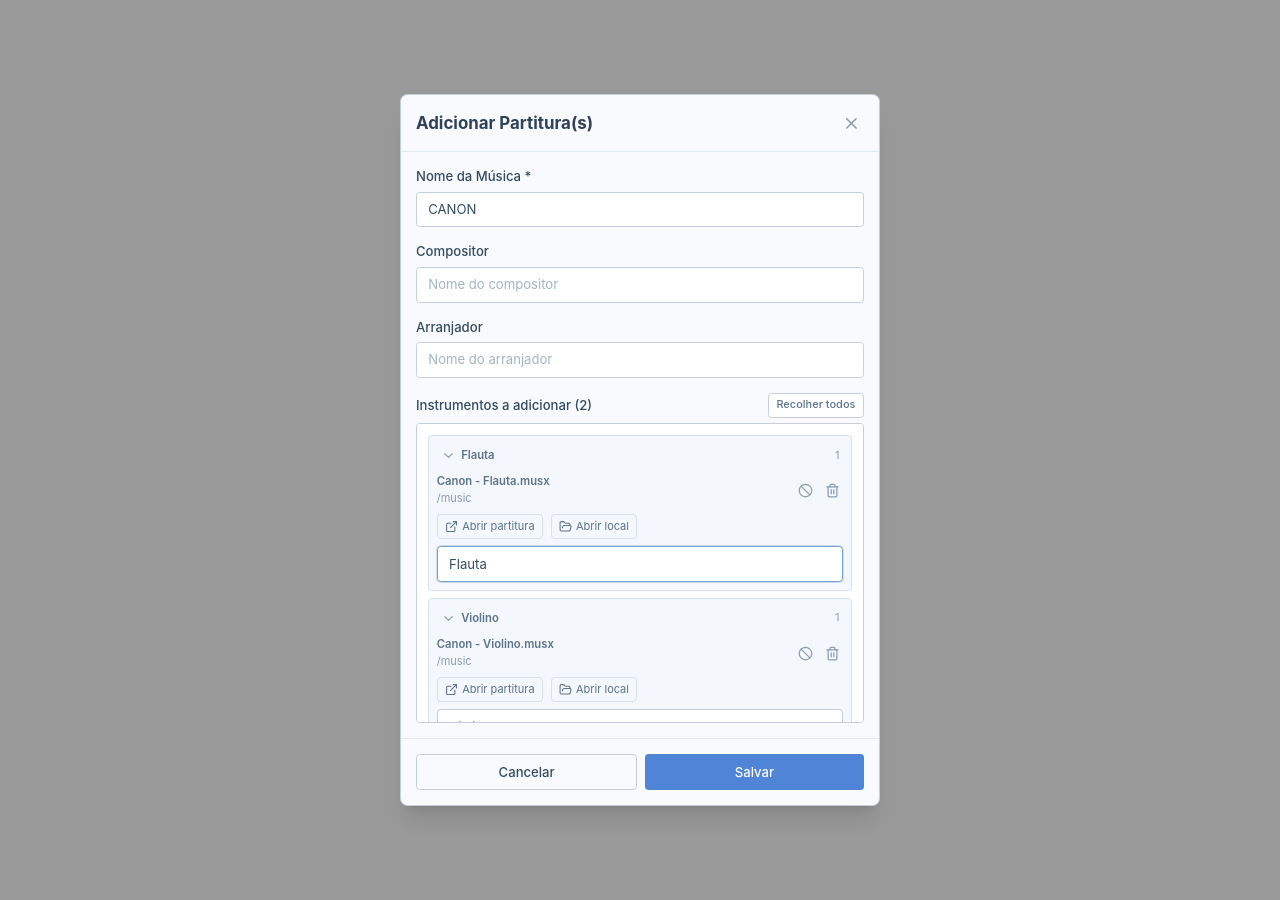
AddFilesModal › should show error when title is empty
Note: Clear the pre-filled title
Step 1. Clear the field showing "CANON" below "Nome da Música" → (640, 210), box [416,192,864,228]
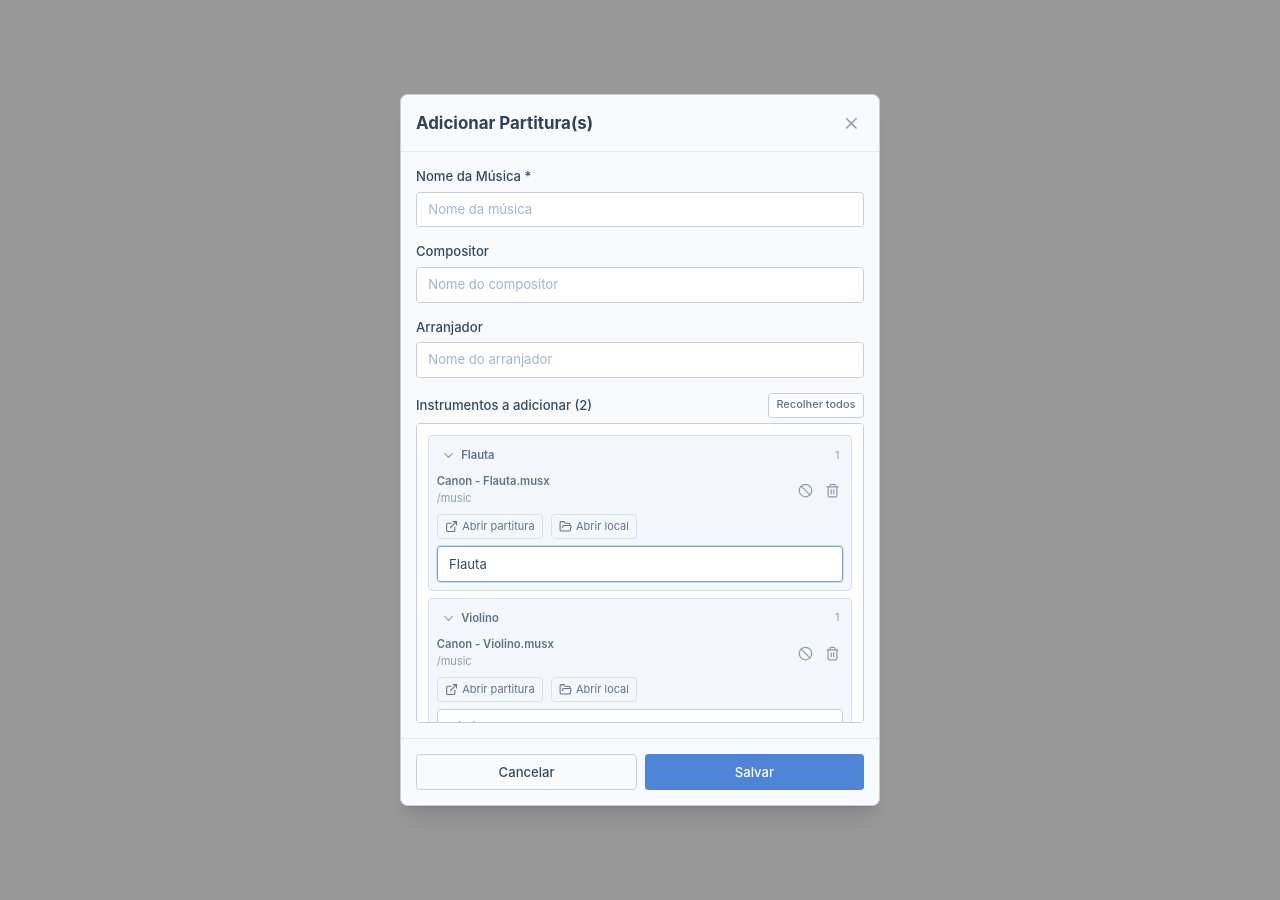
Step 2. Click the button "Salvar" → (754, 772), box [645,754,864,790]
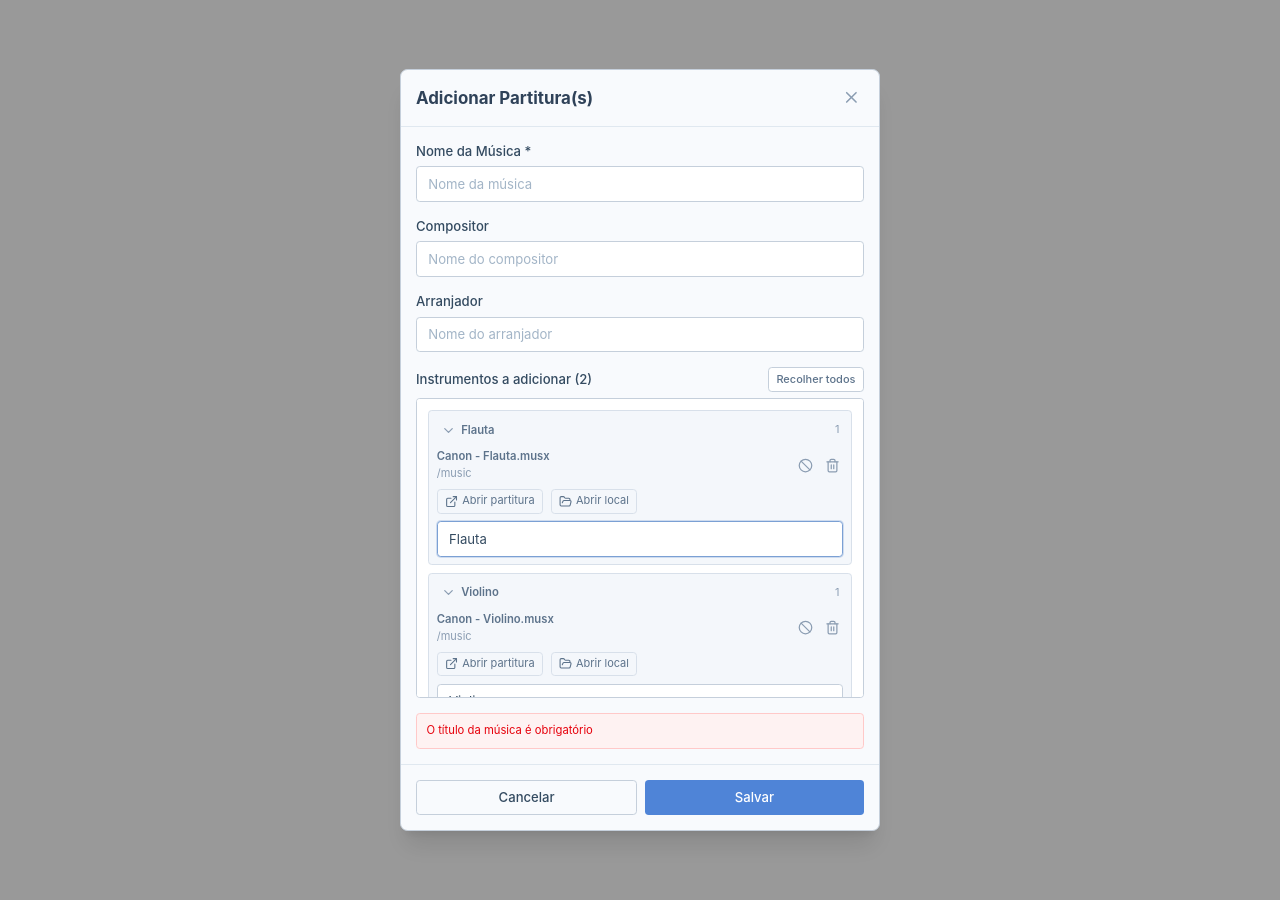
Expected: the text "O título da música é obrigatório" is shown, [426,723,593,737]
